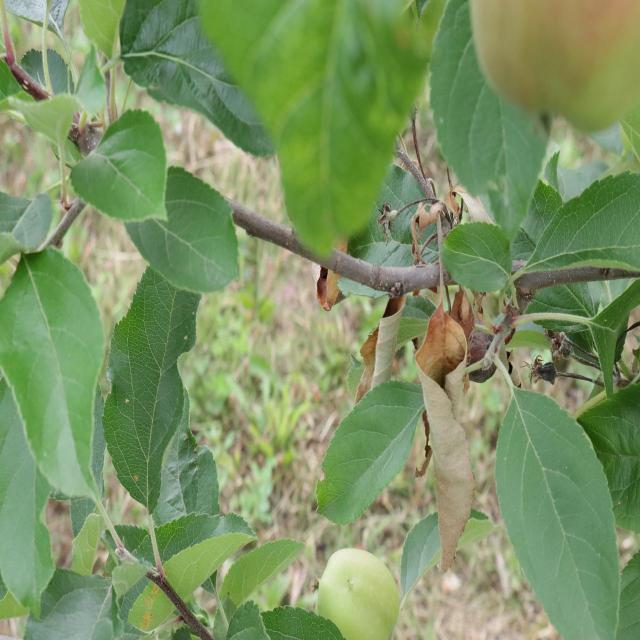-FireBlight-: (391, 188, 494, 572)
